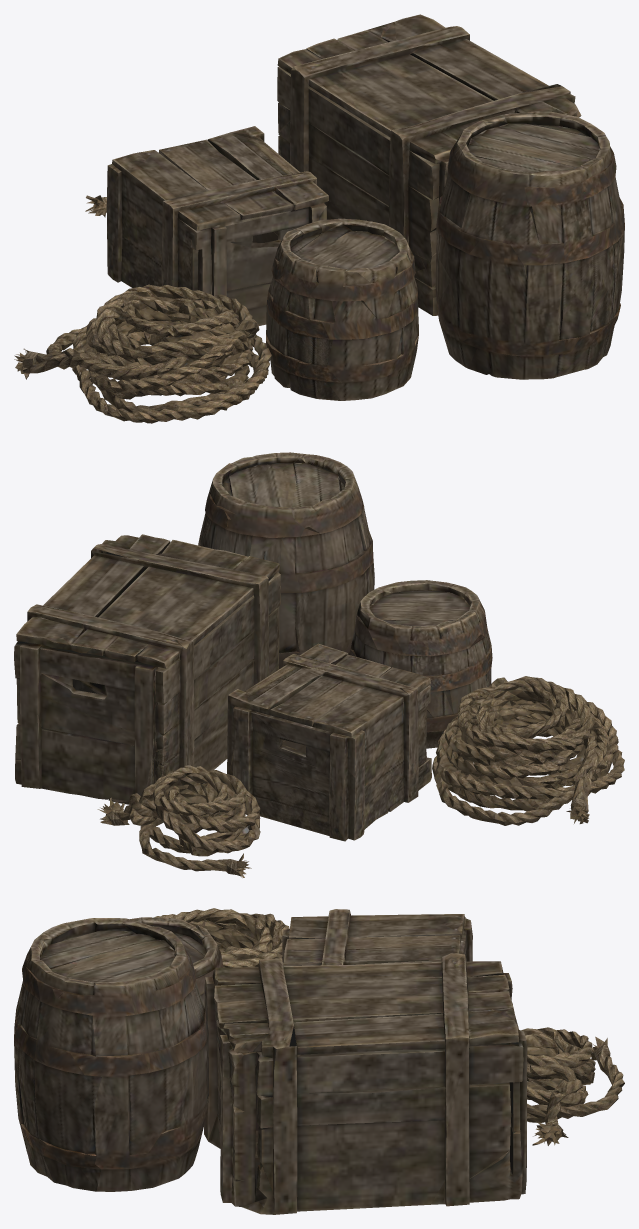
The model's file is cargo_cluster.glb.
3 views of the same model, one above another, from view 1: azimuth 30°, elevation 25°; view 2: azimuth 150°, elevation 25°; view 3: azimuth 270°, elevation 25° (orthographic). The views are drawn at different scales.
Visible parts, largest first — view 1: cargo_cluster; view 2: cargo_cluster; view 3: cargo_cluster.
Boxes of the visible parts, bbox=[...] form: cargo_cluster: bbox=[14, 14, 624, 423]; cargo_cluster: bbox=[14, 452, 624, 877]; cargo_cluster: bbox=[14, 908, 624, 1214].
Size of the model in its own units: 1.89 by 0.6861 by 1.8.
Materials: 1 (1 with a texture image).
